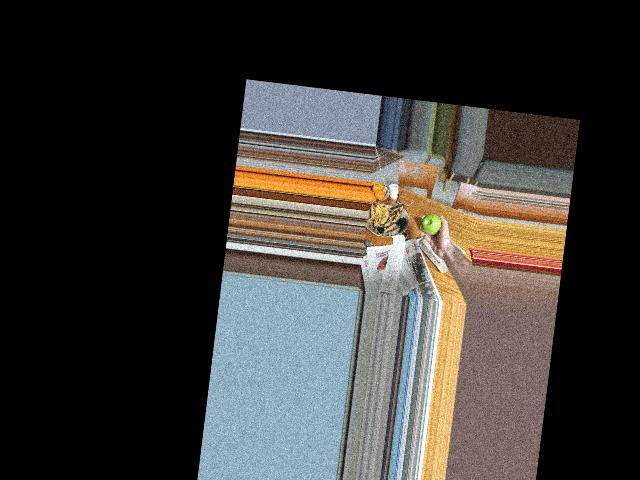apple: (417, 208, 445, 239)
